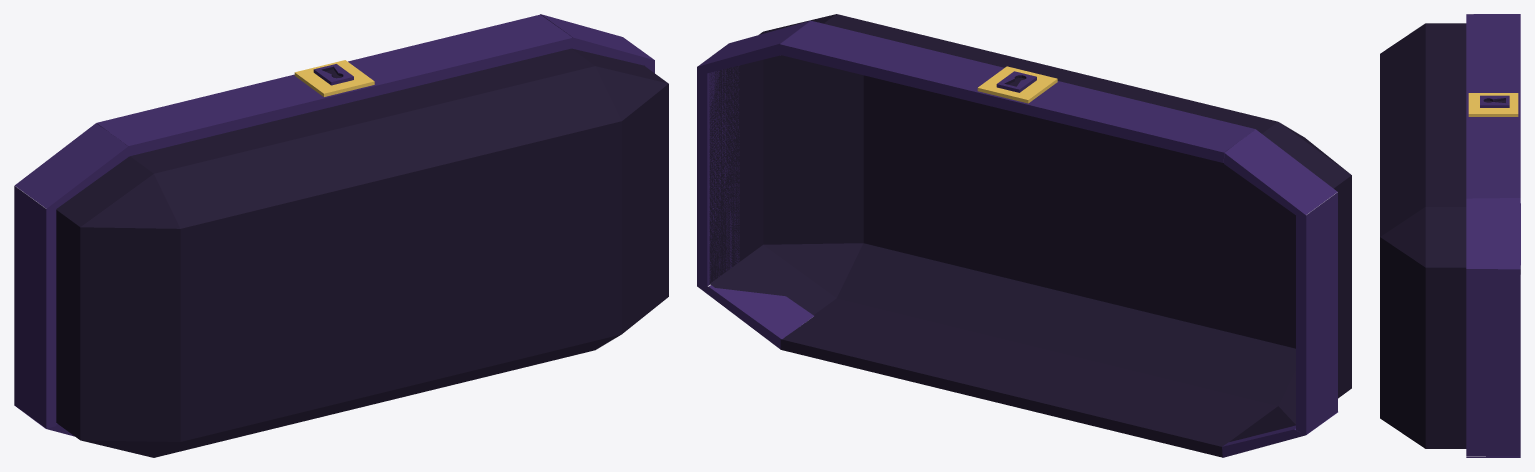
The model's file is tampa_branco.gltf.
3 views of the same model, side by side, from view 1: azimuth 30°, elevation 25°; view 2: azimuth 150°, elevation 25°; view 3: azimuth 270°, elevation 25° (orthographic). The views are drawn at different scales.
Visible parts, largest first — view 1: tampa, faixa_frontal, faixa_lateral, faixa_diagonal (×2), suporte; view 2: tampa, faixa_frontal, faixa_lateral (×2), faixa_diagonal (×4), faixa_posterior, suporte; view 3: tampa, faixa_lateral, faixa_frontal, faixa_diagonal, suporte, buraco.
Part boxes in pixels (x1,y1,x2,y2): tampa: (56,48,668,457); faixa_frontal: (96,14,572,156); faixa_lateral: (14,185,56,428); faixa_diagonal (×2): (15,14,654,208); suporte: (294,60,374,96); tampa: (709,14,1351,444); faixa_frontal: (779,20,1255,162); faixa_lateral (×2): (697,66,1337,434); faixa_diagonal (×4): (697,20,1337,457); faixa_posterior: (780,337,1223,457); suporte: (977,66,1057,103); tampa: (1380,23,1466,448); faixa_lateral: (1466,269,1520,455); faixa_frontal: (1466,14,1520,198); faixa_diagonal: (1466,198,1520,269); suporte: (1468,93,1518,116); buraco: (1480,95,1509,107).
Bounding box in the file's own units: 30.03 × 14.71 × 7.06.
